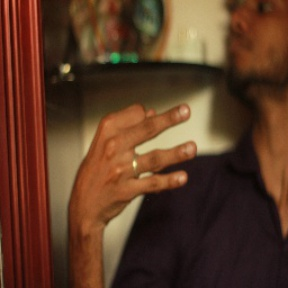K: (78, 100, 204, 215)
